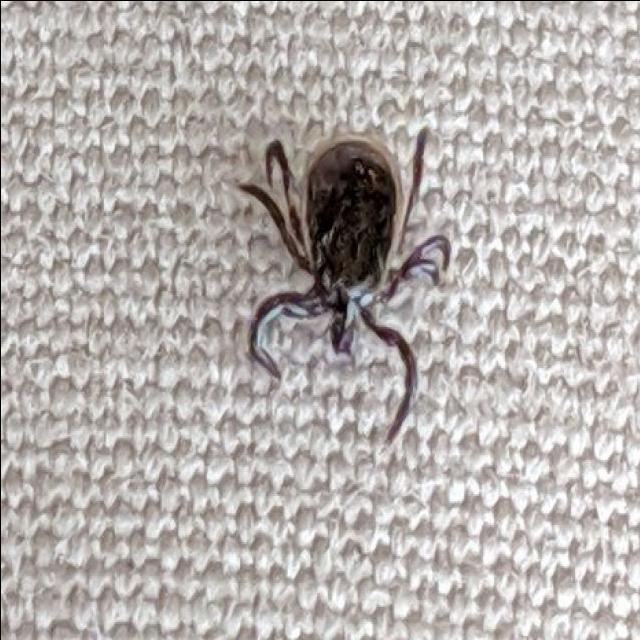Ixodes Ricinus-M: (238, 125, 457, 440)
